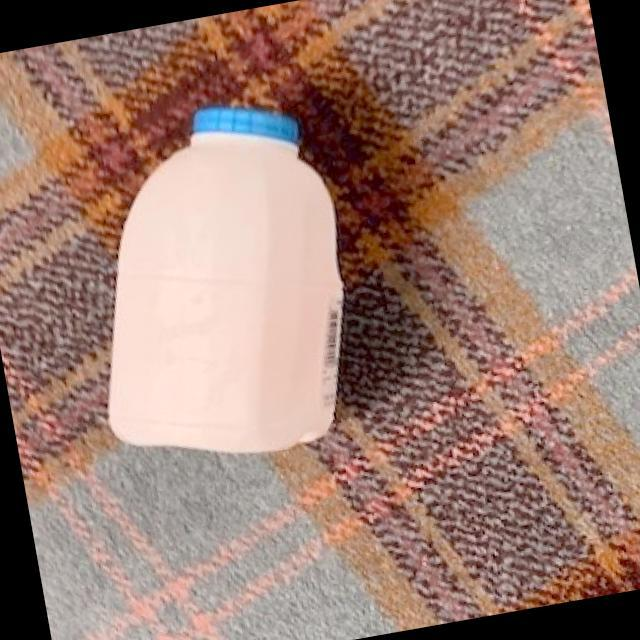HDPE Plastic: (107, 104, 348, 456)
